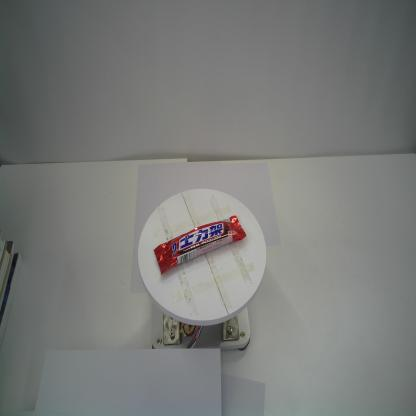Chocolate: (153, 214, 247, 276)
